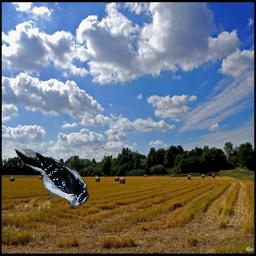Woodpecker: (13, 149, 89, 209)
